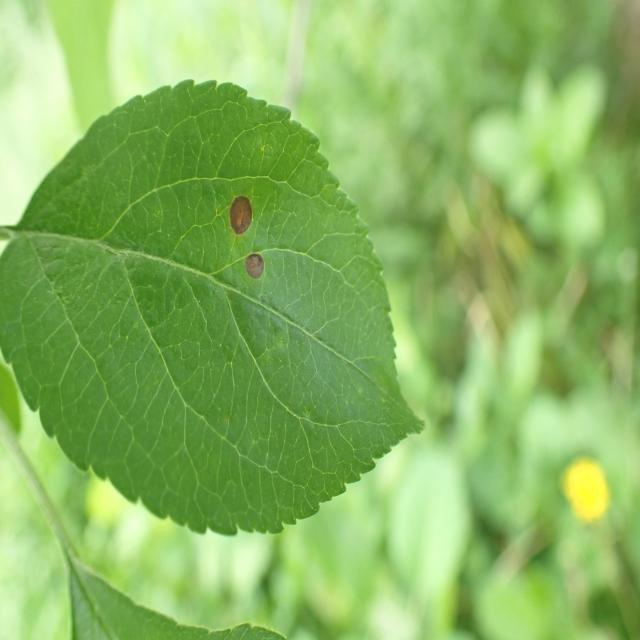Black Rot: (226, 233, 293, 320), (220, 181, 260, 246)
